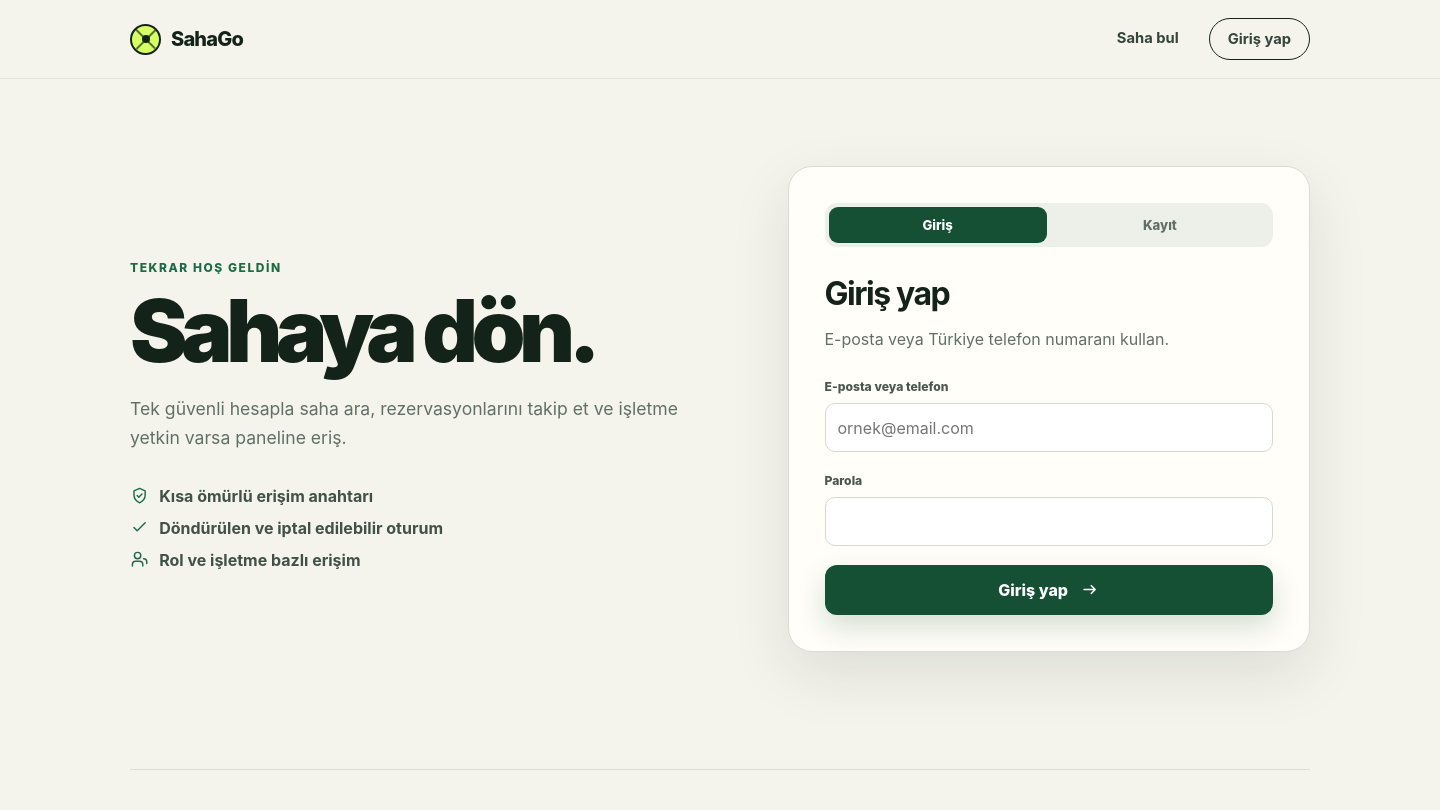
Test: frontend routes › logs in through the identity API and renders the returned customer
Check: the heading "Giriş yap" is shown, box [824,274,949,313]
Type "oyuncu@example.com" into the field labelled "E-posta veya telefon". click: x=1049, y=428
box: [824,403,1273,452]
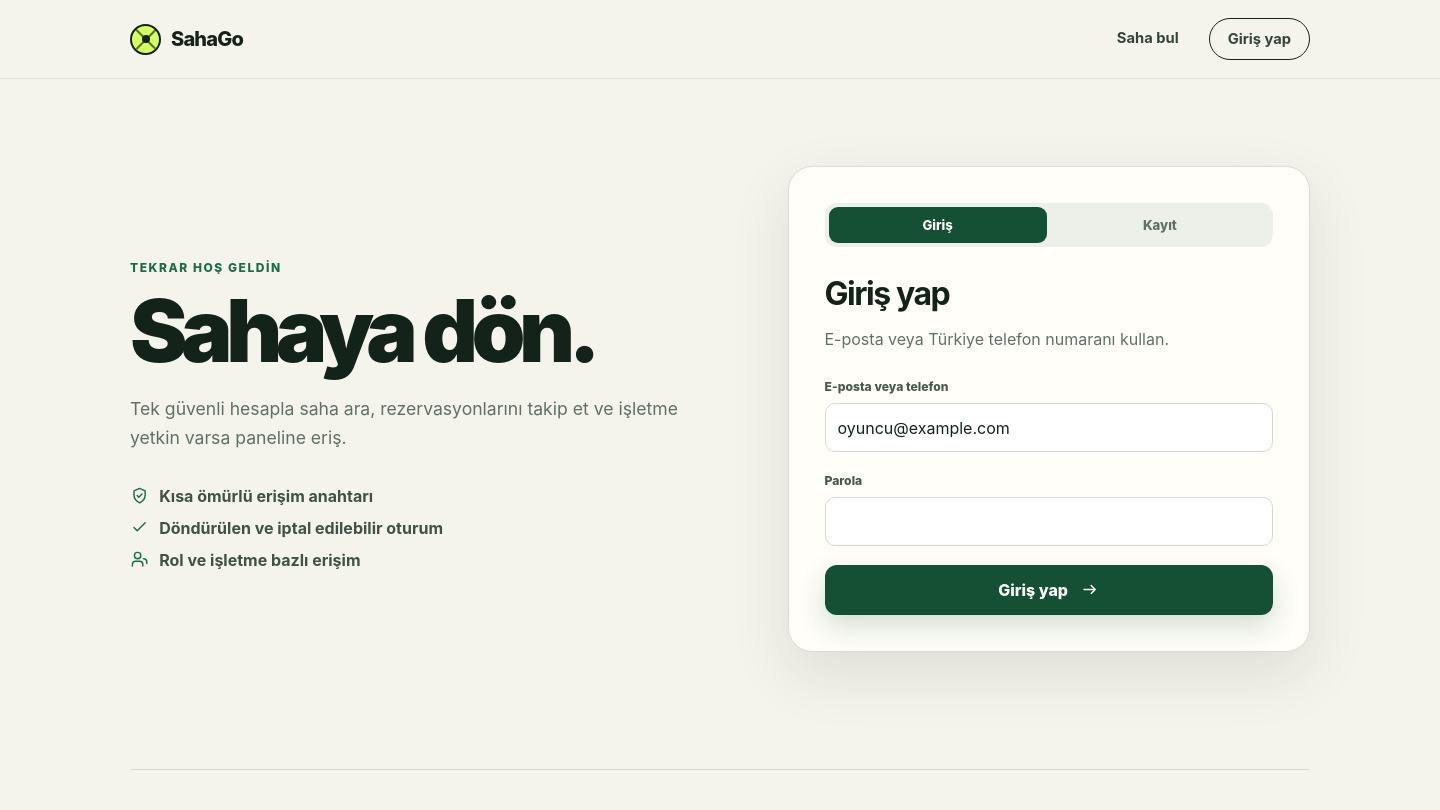
Type "guvenli-parola" into the password field labelled "Parola". click: x=1049, y=522
box: [824,497,1273,546]
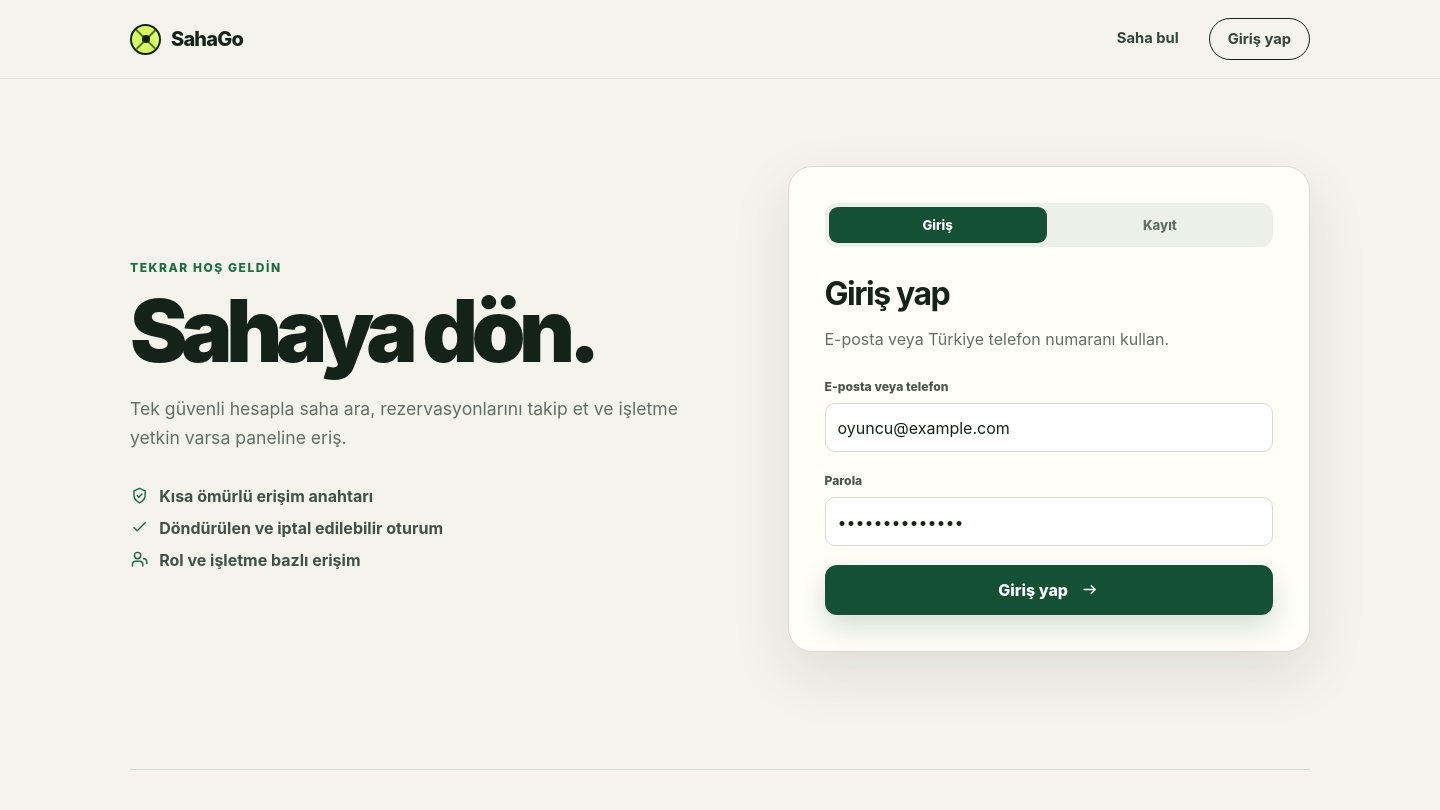
Click the button "Giriş yap". click: x=1049, y=590
box: [824,565,1273,615]
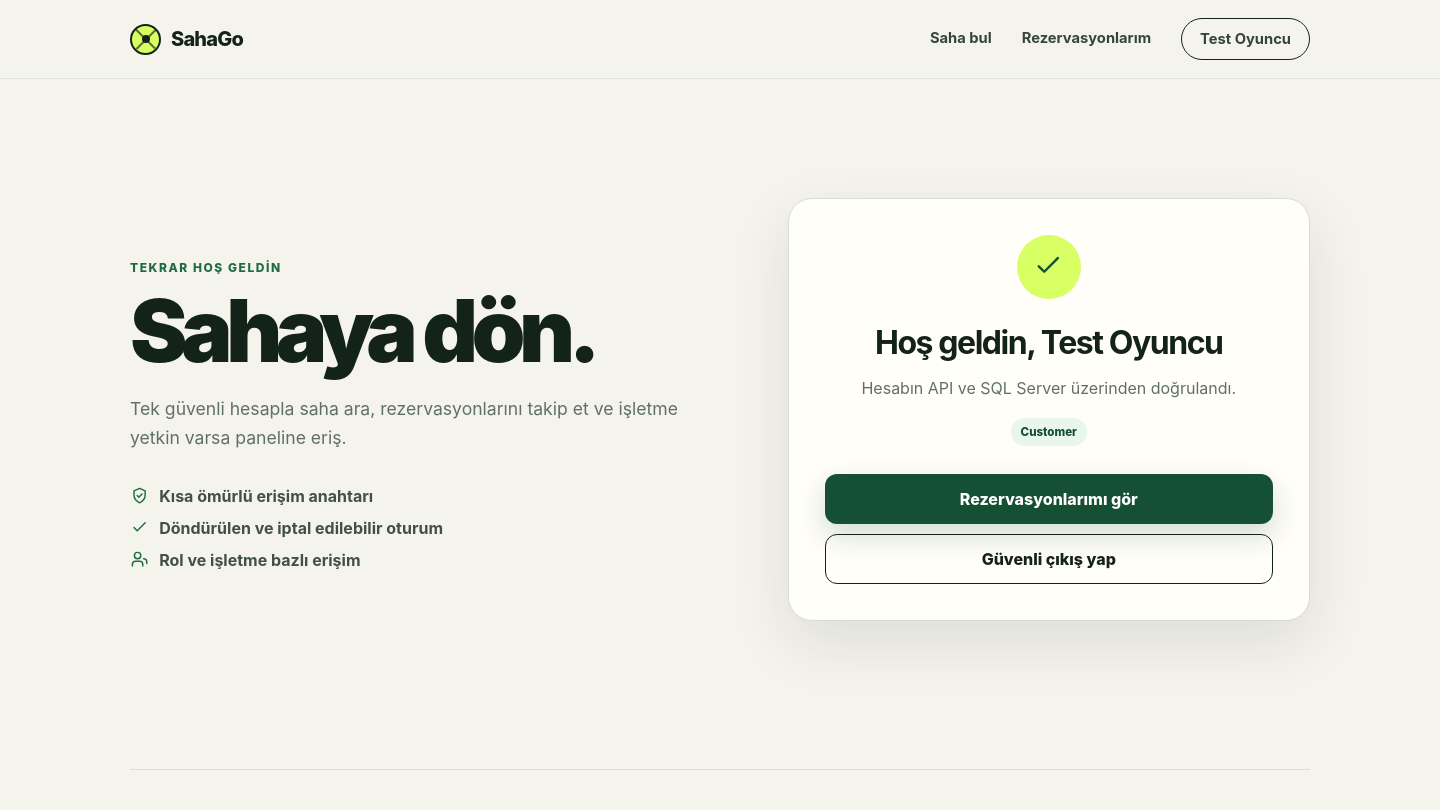
Check: the heading "Hoş geldin, Test Oyuncu" is shown, box [875,322,1223,362]
Check: the text "Customer" is shown, box [1011,418,1087,446]
